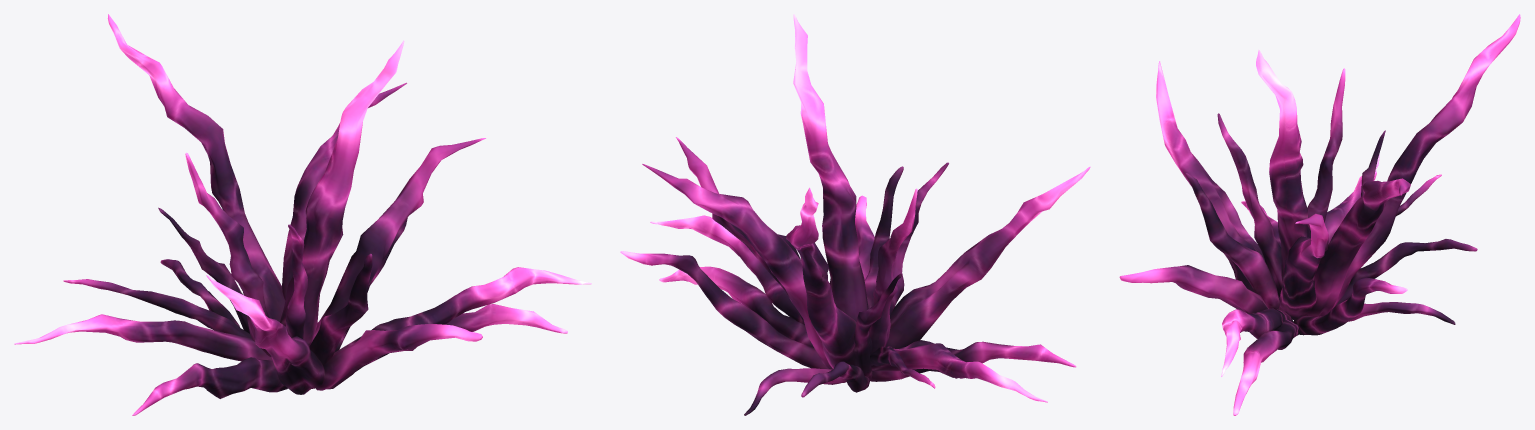
Rendered from caos_drs_chaosbush_01c_chaos_v36.glb.
The picture shows the model from 3 angles, left to right: view 1: azimuth 30°, elevation 25°; view 2: azimuth 150°, elevation 25°; view 3: azimuth 270°, elevation 25°; orthographic projection. The views are drawn at different scales.
Visible parts, largest first — view 1: caos_drs_chaosbush_01c; view 2: caos_drs_chaosbush_01c; view 3: caos_drs_chaosbush_01c.
Part boxes in pixels (box(x1,y1,x2,y2)): caos_drs_chaosbush_01c: box(14, 14, 591, 415); caos_drs_chaosbush_01c: box(620, 14, 1090, 415); caos_drs_chaosbush_01c: box(1119, 14, 1520, 415).
Bounding box in the file's own units: 4.26 × 2.79 × 3.22.
Materials: 1 (1 with a texture image).
